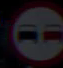No overtake: (5, 5, 60, 57)
